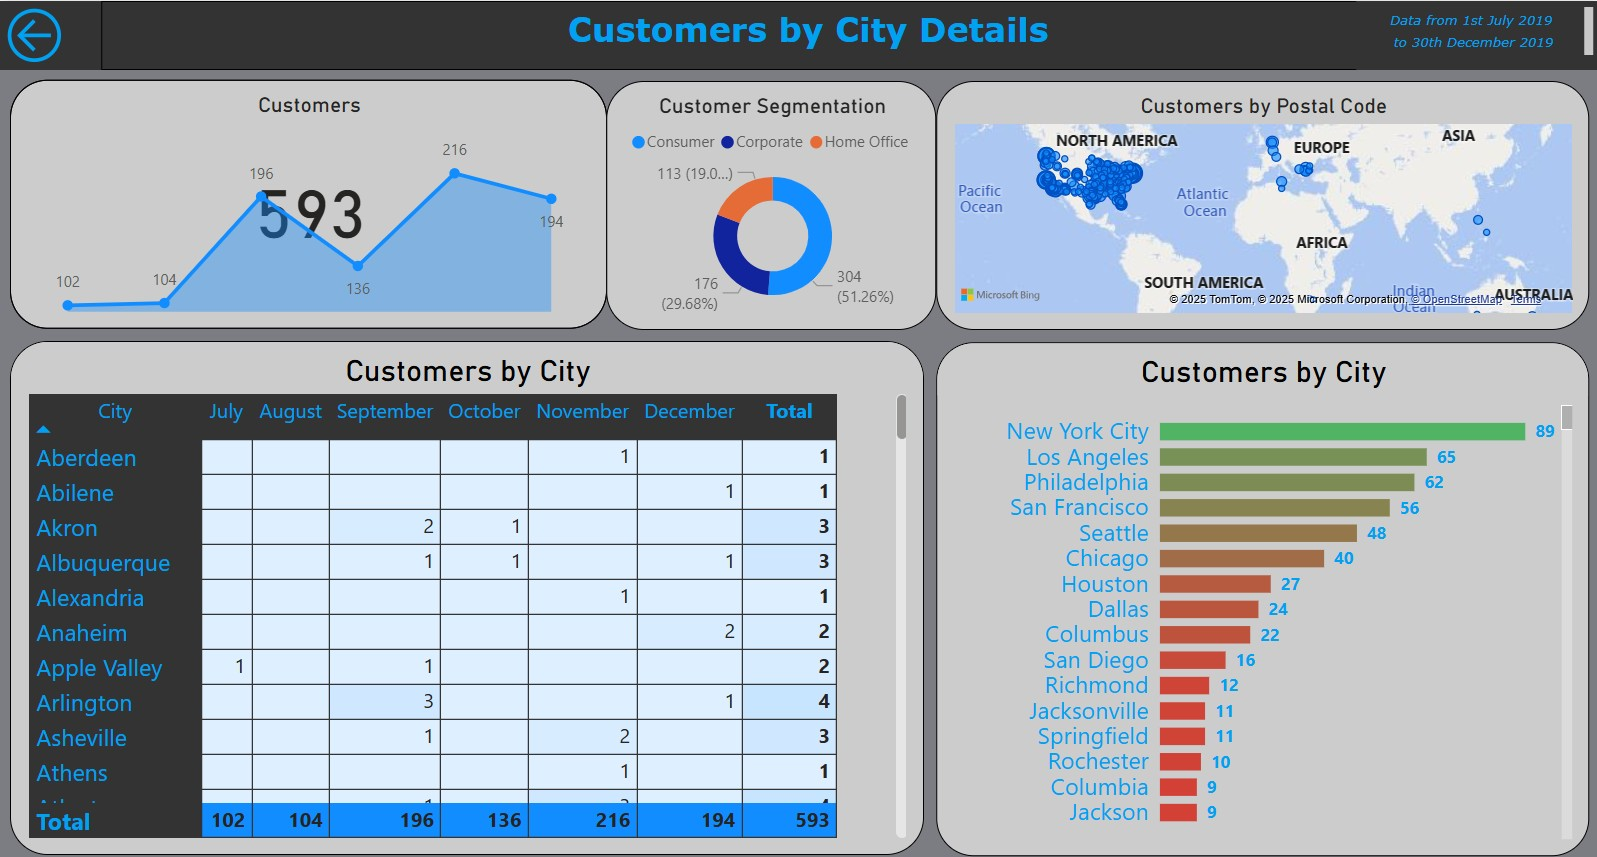

The page's visual inventory and layout, read from the dashboard file:
{"tool":"powerbi","page":{"name":"No. Of Customers By City","canvas":[1280,690],"ordinal":5},"visuals":[{"type":"pivotTable","title":"Customers by City","fields":{"Rows":["Geographical_DimTable.City"],"Columns":["Orders_Table.Order Date.Variation.Date Hierarchy.Month"],"Values":["Count(Orders_Table.Customer ID)"]},"box":[7.8,272.2,731.1,411.1],"z":0},{"type":"actionButton","box":[0,0,81,55],"z":1000},{"type":"textbox","box":[81.2,0,1128.8,55],"z":2000},{"type":"textbox","box":[1085,0,195,55],"z":3000},{"type":"barChart","title":"Customers by City","fields":{"Category":["Geographical_DimTable.City"],"Y":["Count(Orders_Table.Customer ID)"]},"box":[748.8,272.5,522.5,411.2],"z":4000},{"type":"card","title":"Sales in Last 6 Months","fields":{"Values":["Count(Orders_Table.Customer ID)"]},"box":[8,63,477,199],"z":5000},{"type":"areaChart","title":"Customers","fields":{"Category":["Orders_Table.Order Date.Variation.Date Hierarchy.Month"],"Y":["Count(Orders_Table.Customer ID)"]},"box":[8,63,477,199],"z":6000},{"type":"map","title":"Customers by Postal Code","fields":{"Category":["Geographical_DimTable.Postal Code"],"Size":["Count(Orders_Table.Customer ID)"]},"box":[748.8,63.8,522.5,198.8],"z":7000},{"type":"donutChart","title":"Customer Segmentation","fields":{"Category":["Customer_DimTable.Segment"],"Y":["Count(Orders_Table.Customer ID)"]},"box":[485,64,264,199],"z":8000}]}

Visuals, with their boxes in screenshot pixels (x1, y1, x2, y2), scaled from the page's 1280x690 canvas onto the 1597x857 screenshot:
"Customers by City" pivotTable: {"left": 10, "top": 338, "right": 922, "bottom": 849}
actionButton: {"left": 0, "top": 0, "right": 101, "bottom": 68}
textbox: {"left": 101, "top": 0, "right": 1510, "bottom": 68}
textbox: {"left": 1354, "top": 0, "right": 1596, "bottom": 68}
"Customers by City" barChart: {"left": 934, "top": 338, "right": 1586, "bottom": 849}
"Sales in Last 6 Months" card: {"left": 10, "top": 78, "right": 605, "bottom": 325}
"Customers" areaChart: {"left": 10, "top": 78, "right": 605, "bottom": 325}
"Customers by Postal Code" map: {"left": 934, "top": 79, "right": 1586, "bottom": 326}
"Customer Segmentation" donutChart: {"left": 605, "top": 79, "right": 934, "bottom": 327}
